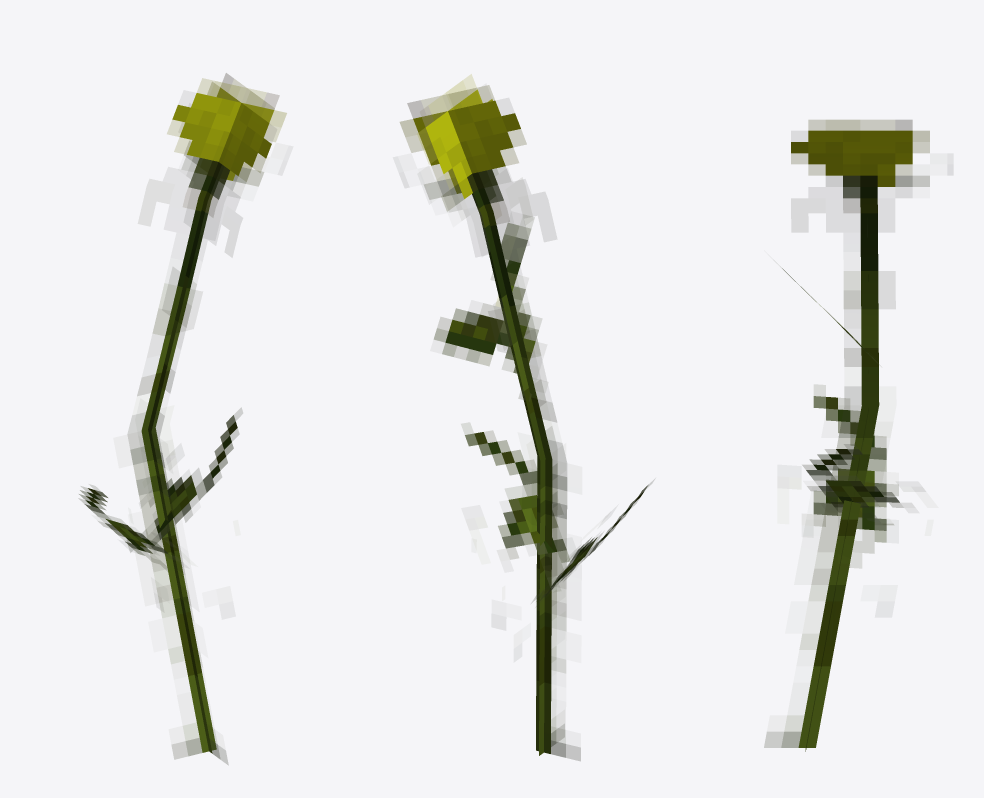
Rendered from plantflr_2.glb.
3 renders of one model, left to right at view 1: azimuth 30°, elevation 25°; view 2: azimuth 150°, elevation 25°; view 3: azimuth 270°, elevation 25°, orthographic. The views are drawn at different scales.
Visible parts, largest first — view 1: plantflr_2; view 2: plantflr_2; view 3: plantflr_2.
Part boxes in pixels (bbox=[...]): plantflr_2: bbox=[79, 73, 286, 764]; plantflr_2: bbox=[400, 74, 654, 760]; plantflr_2: bbox=[764, 120, 929, 751].
Size of the model in its own units: 0.7672 by 1.82 by 0.5742.
Materials: 1 (1 with a texture image).
